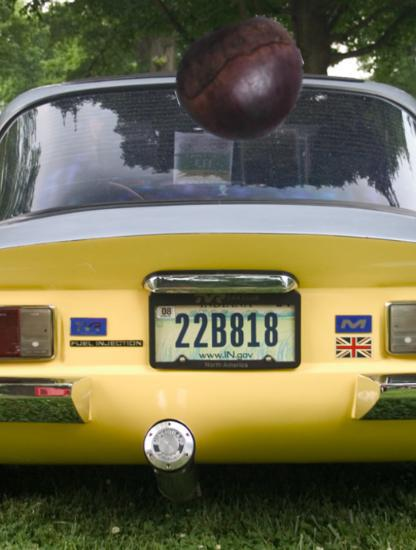Chestnut: (175, 17, 308, 150)
